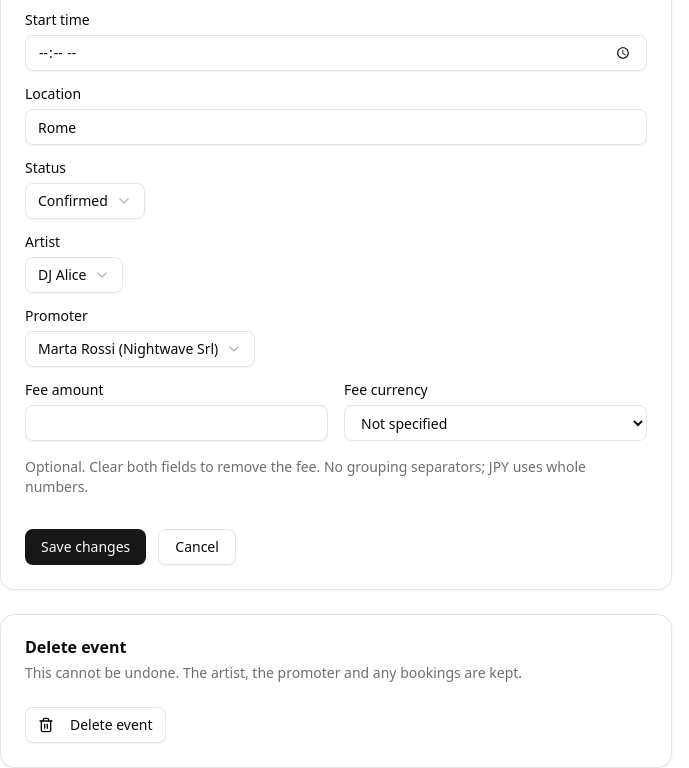
Scenario: cancelling the delete confirmation deletes nothing
The width and height of the screenshot is (689, 768).
(page scrolled)
Step 1. Click the button "Delete event" → (95, 725), box left=25, top=707, right=166, bottom=743
(page scrolled)
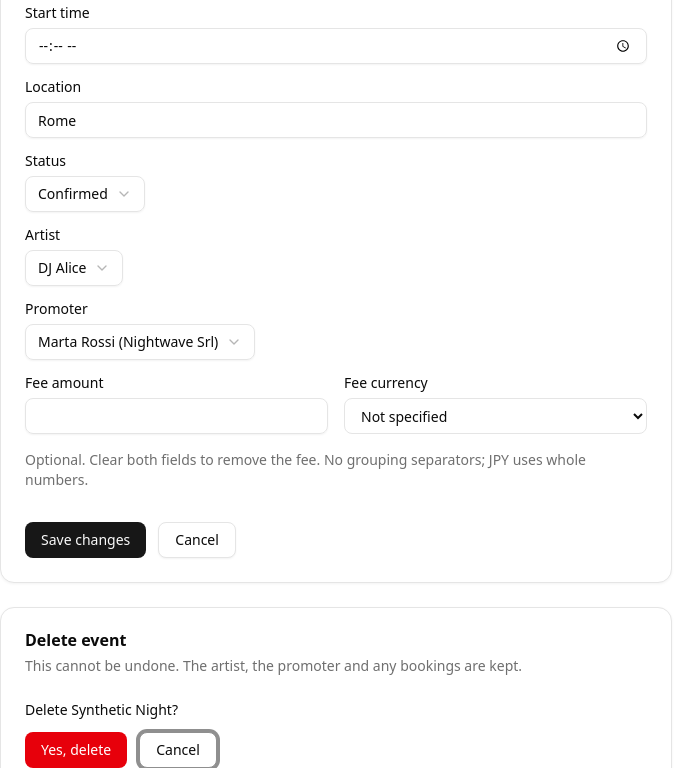
Step 2. Click the button "Cancel" → (178, 750), box left=139, top=732, right=217, bottom=767
(page scrolled)
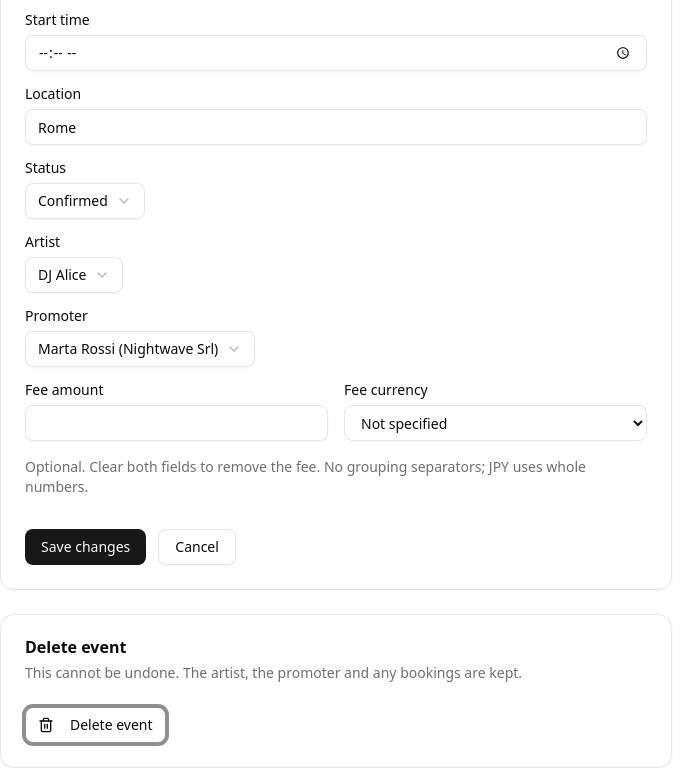
expect the button "Delete event" is shown: met, box left=25, top=707, right=166, bottom=743
